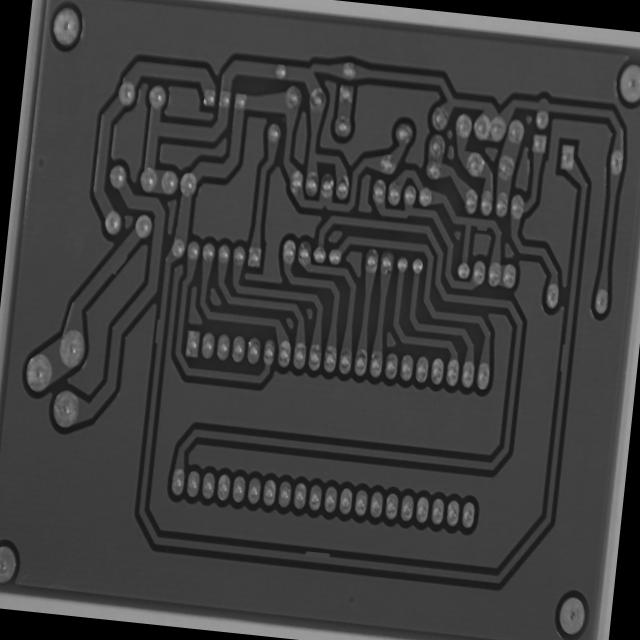spur: (554, 331, 574, 379), (106, 246, 130, 277), (300, 546, 332, 568), (151, 312, 166, 349), (472, 214, 492, 236)
